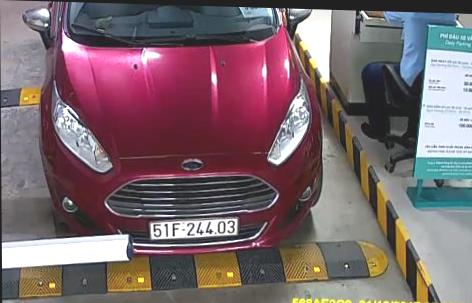License_Plate: (148, 215, 243, 242)
